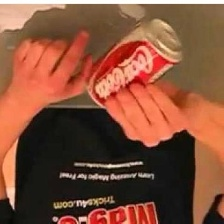can: (80, 13, 188, 116)
